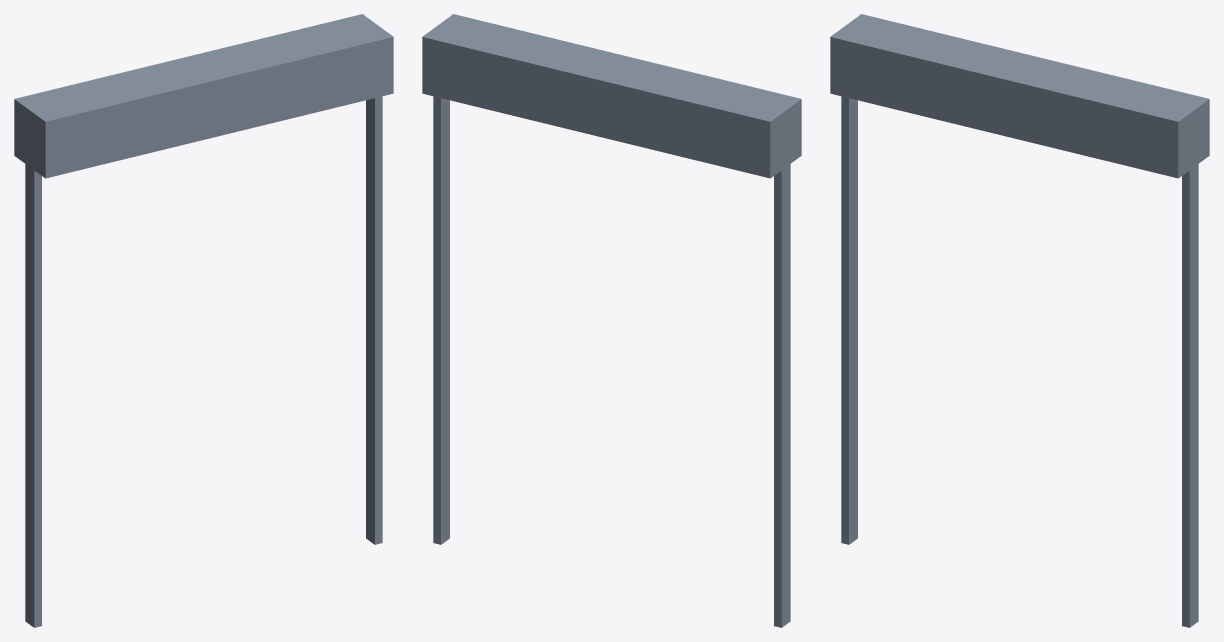
Rendered from aws_robomaker_warehouse_DockDoorOpen_01_visual.DAE.
The picture shows the model from 3 angles, left to right: view 1: azimuth 30°, elevation 25°; view 2: azimuth 150°, elevation 25°; view 3: azimuth 330°, elevation 25°; orthographic projection.
Parts seen in each view (by area): view 1: aws_robomaker_warehouse_DockDoorOpen_01_visual; view 2: aws_robomaker_warehouse_DockDoorOpen_01_visual; view 3: aws_robomaker_warehouse_DockDoorOpen_01_visual.
Boxes of the visible parts, x1,y1,x2,y2 form: aws_robomaker_warehouse_DockDoorOpen_01_visual: (14,14,393,627); aws_robomaker_warehouse_DockDoorOpen_01_visual: (422,14,801,627); aws_robomaker_warehouse_DockDoorOpen_01_visual: (830,14,1209,627).
Size of the model in its own units: 3.6 by 0.56 by 5.08.
